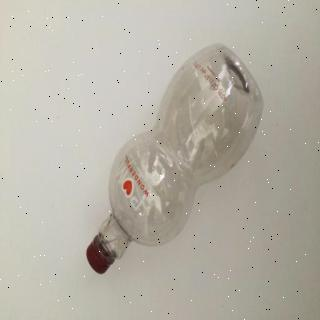Plastic-bottle: (84, 41, 265, 279)
